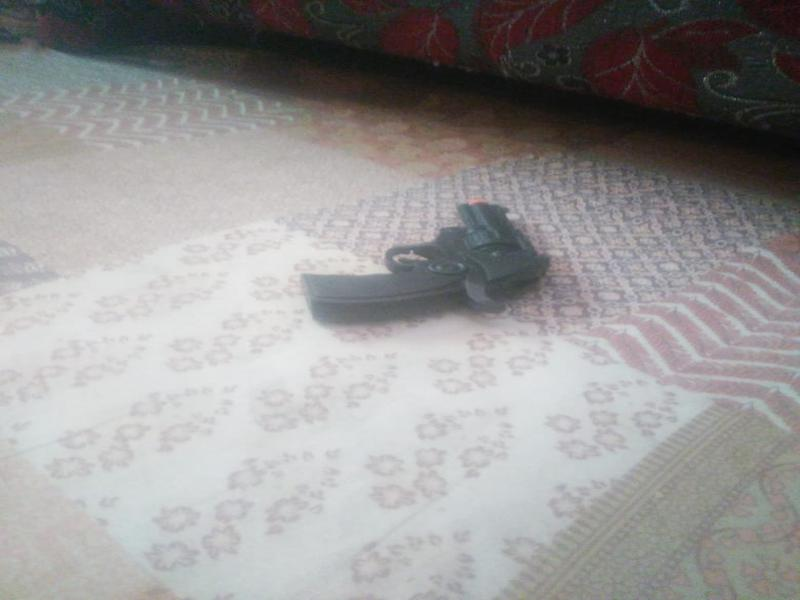gun: (298, 162, 569, 350)
